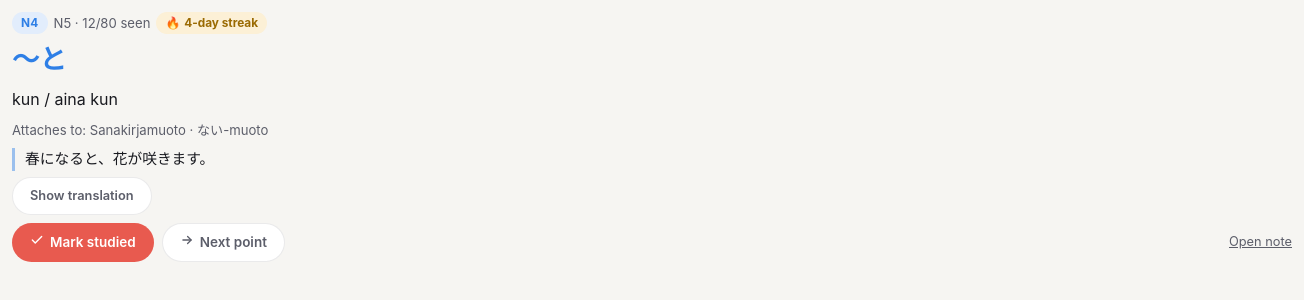
Test case: GrammarWidget › hides translations behind a disclosure when revealTranslation is tap
Expected: the heading "～と" is shown, x1=12 y1=43 x2=66 y2=76
Expected: the text "Kun tulee kevät, kukat kukkivat." is not shown
Click the button "Show translation". click: coordinates (82, 196)
box: x1=12 y1=177 x2=152 y2=215
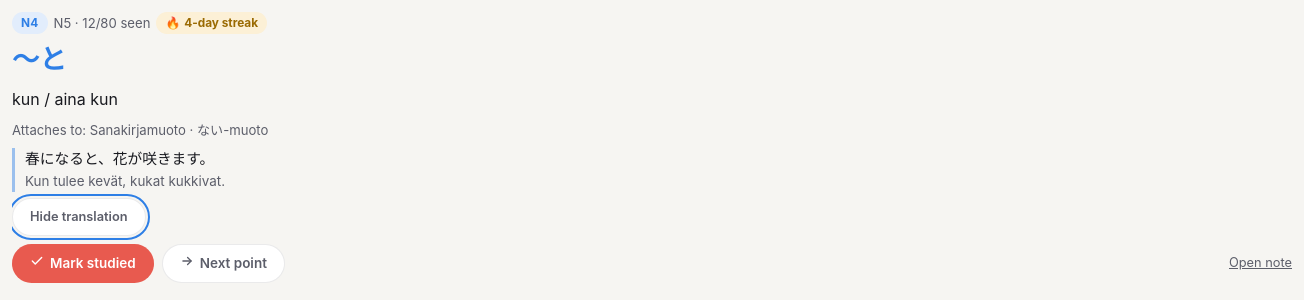
Expected: the text "Kun tulee kevät, kukat kukkivat." is shown, x1=25 y1=173 x2=225 y2=189
